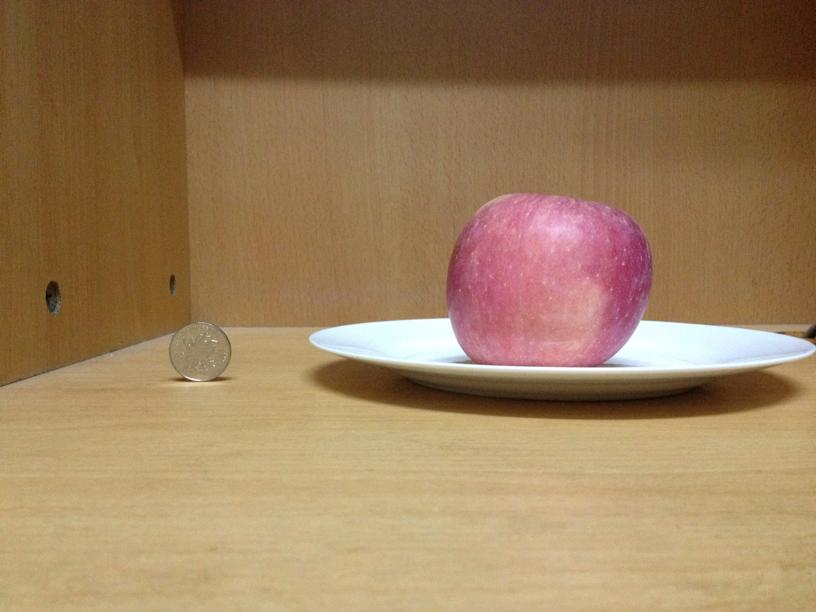apple: (442, 191, 654, 364)
coin: (166, 322, 233, 381)
